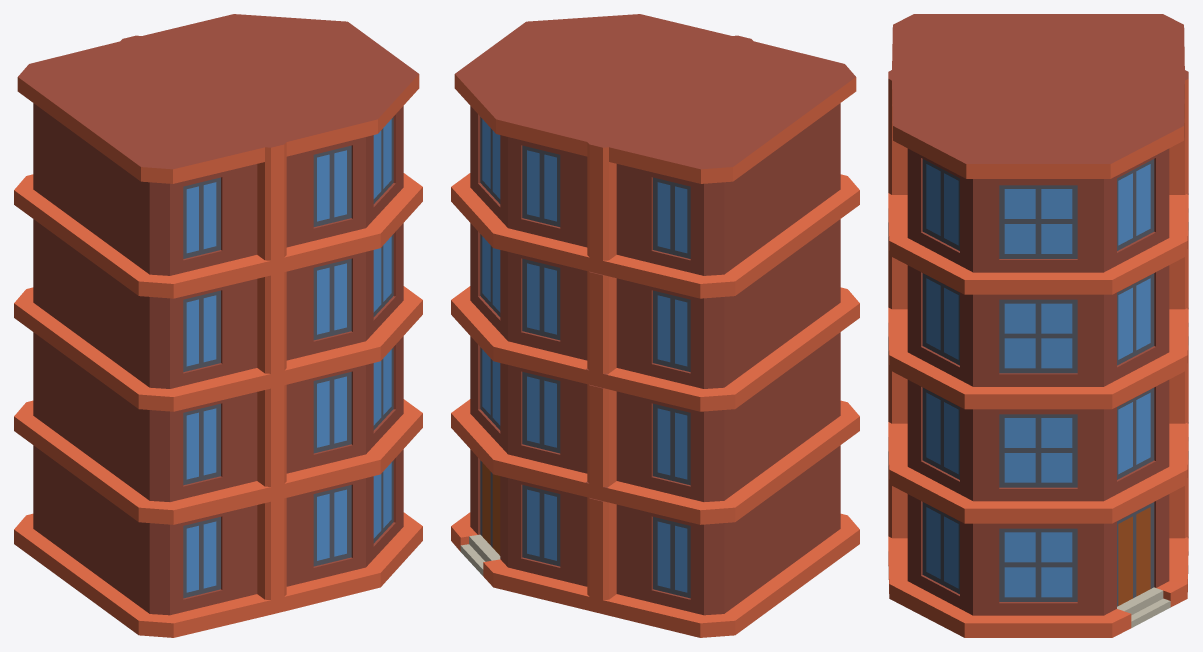
The picture shows the model from 3 angles, left to right: view 1: azimuth 30°, elevation 25°; view 2: azimuth 150°, elevation 25°; view 3: azimuth 270°, elevation 25°; orthographic projection.
Parts seen in each view (by area): view 1: Predio 10; view 2: Predio 10; view 3: Predio 10.
Part boxes in pixels (box(x1,y1,x2,y2)): Predio 10: box(14, 14, 422, 637); Predio 10: box(451, 14, 859, 637); Predio 10: box(888, 14, 1188, 637).
Bounding box in the file's own units: 6649 × 9571 × 5520.
